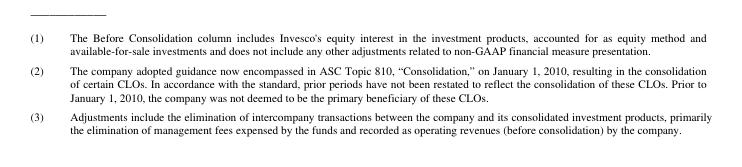table: (29, 28, 711, 136)
table column: (55, 28, 711, 136), (29, 28, 55, 136)
table row: (29, 59, 711, 105), (29, 28, 711, 59), (29, 105, 711, 136)
